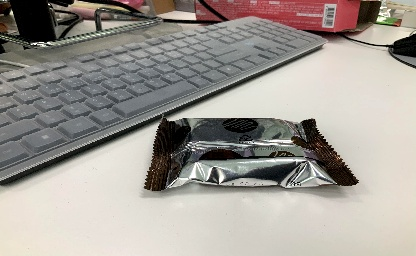mon: (140, 110, 361, 192)
